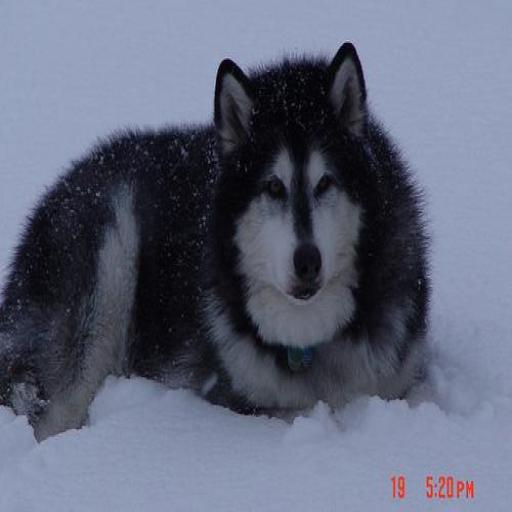dog_face: (214, 44, 378, 313)
